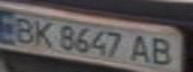4: (87, 28, 109, 58)
6: (72, 25, 93, 55)
7: (106, 28, 127, 61)
8: (54, 22, 78, 52)
A: (127, 30, 157, 65)
B: (145, 34, 184, 70), (6, 15, 39, 45)
K: (27, 17, 57, 48)
